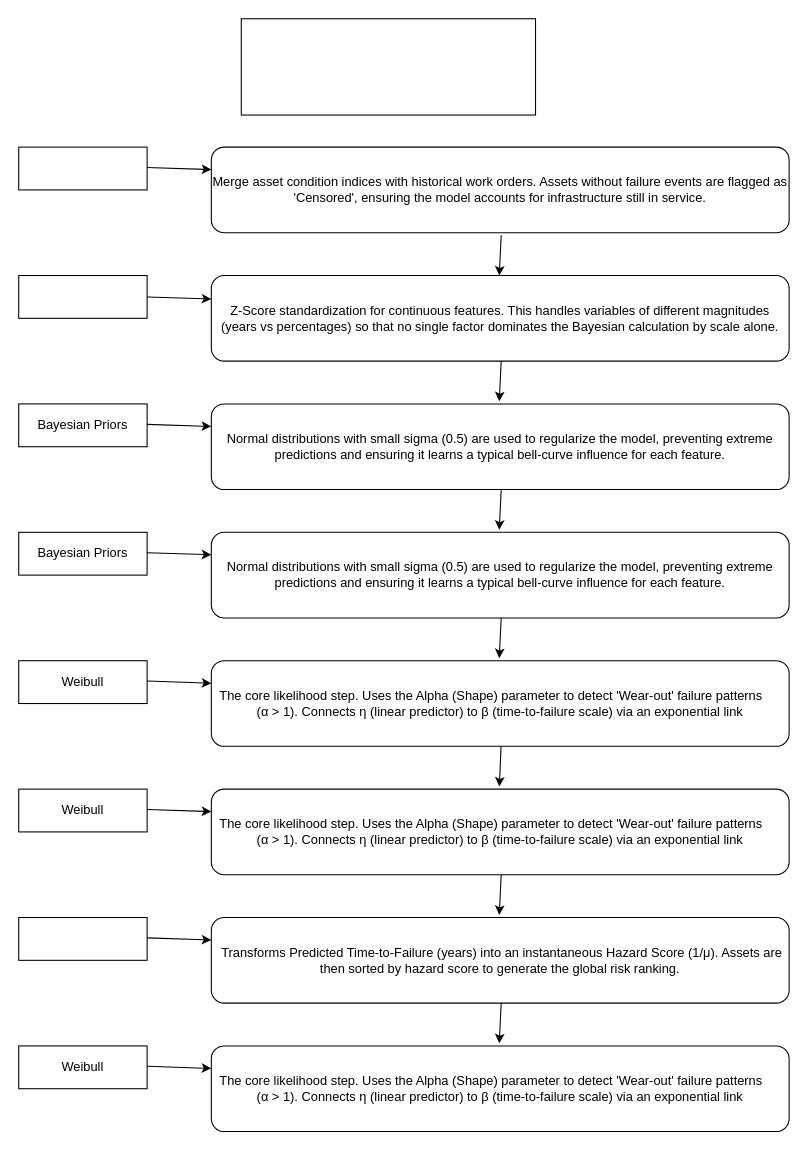
This 808x1150 diagram has some shape labels left out. The shapes that lost their labels are listed below. From the top down, each one's box as (x1, y1, x2, y2) in pixels, then its label:
(240, 18, 536, 115): Hazard Function h(t) = (α/β) * (t/β)^(α-1) β = exp(η) η = Intercept + Σ(βi * Xi)
(18, 146, 147, 190): Data Ingestion
(18, 274, 147, 318): Data Engineering
(18, 916, 147, 960): Risk Calculation
